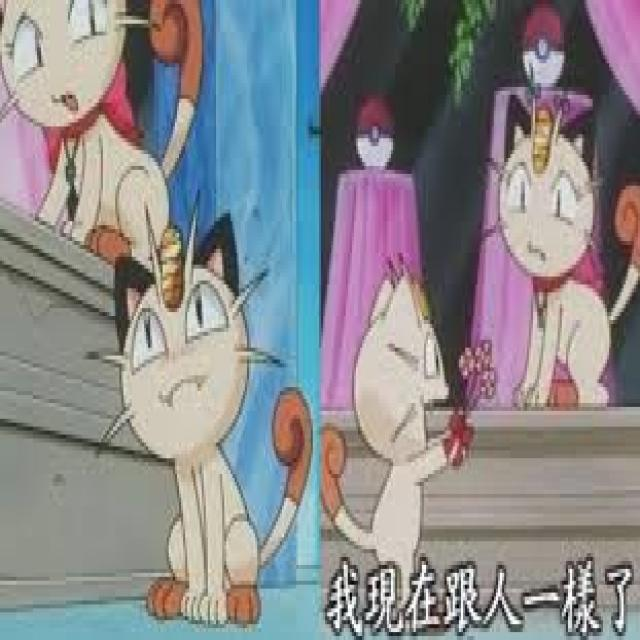Meowth: (131, 226, 257, 618), (503, 99, 601, 404), (355, 277, 451, 571)
